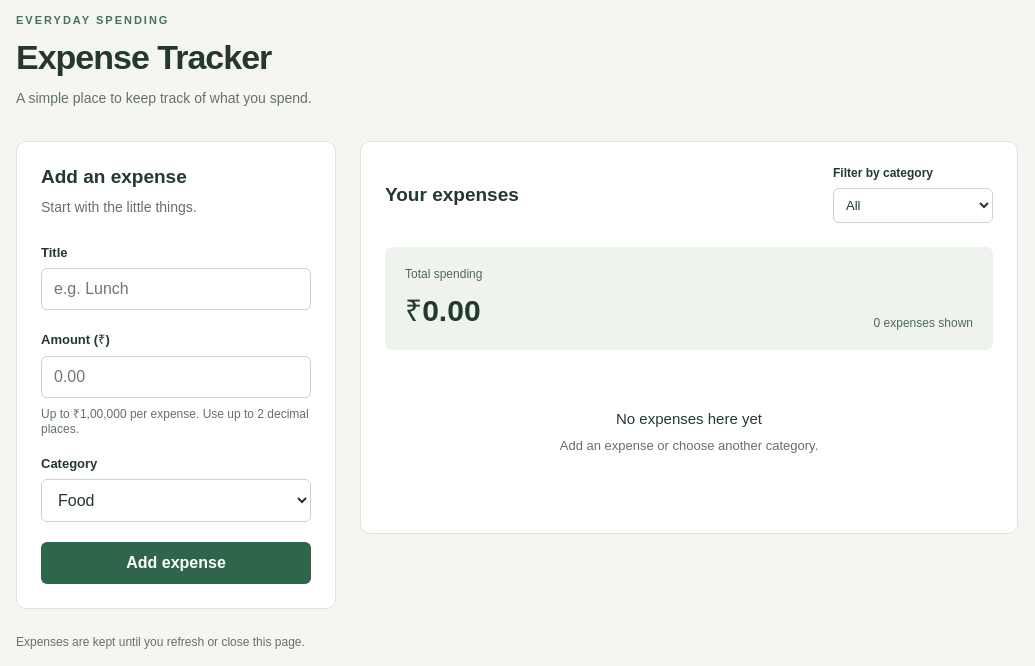
Scenario: expense tracker › adds a valid expense and clears the form
Type "  Lunch  " into the field labelled "Title". click: {"x": 176, "y": 289}
box: [41,268,311,310]
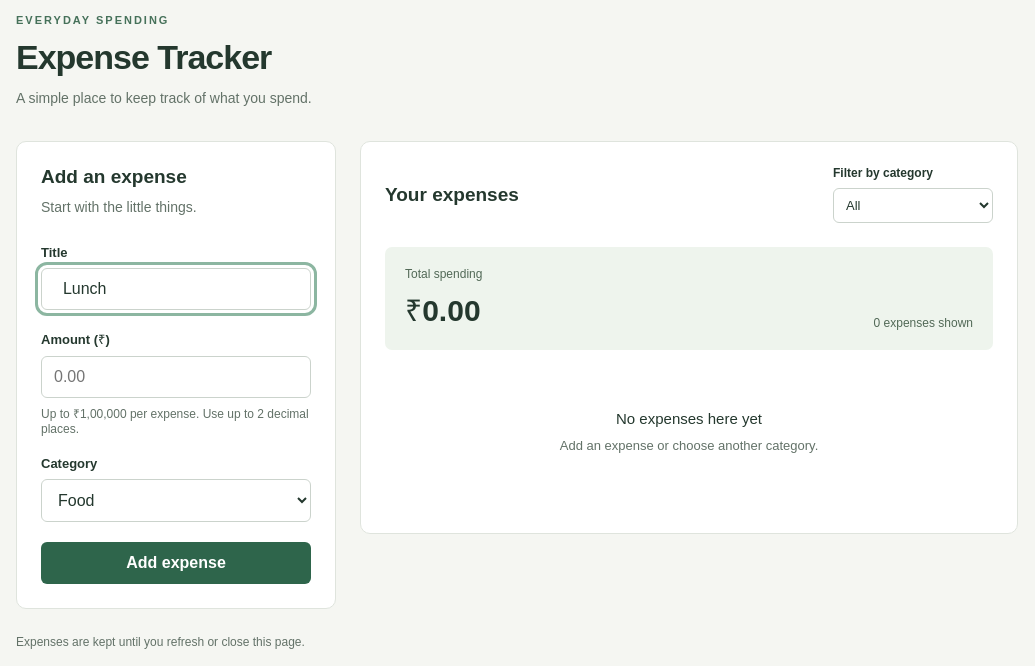
Type "250.50" into the field labelled "Amount (₹)". click: {"x": 176, "y": 377}
box: [41,356,311,398]
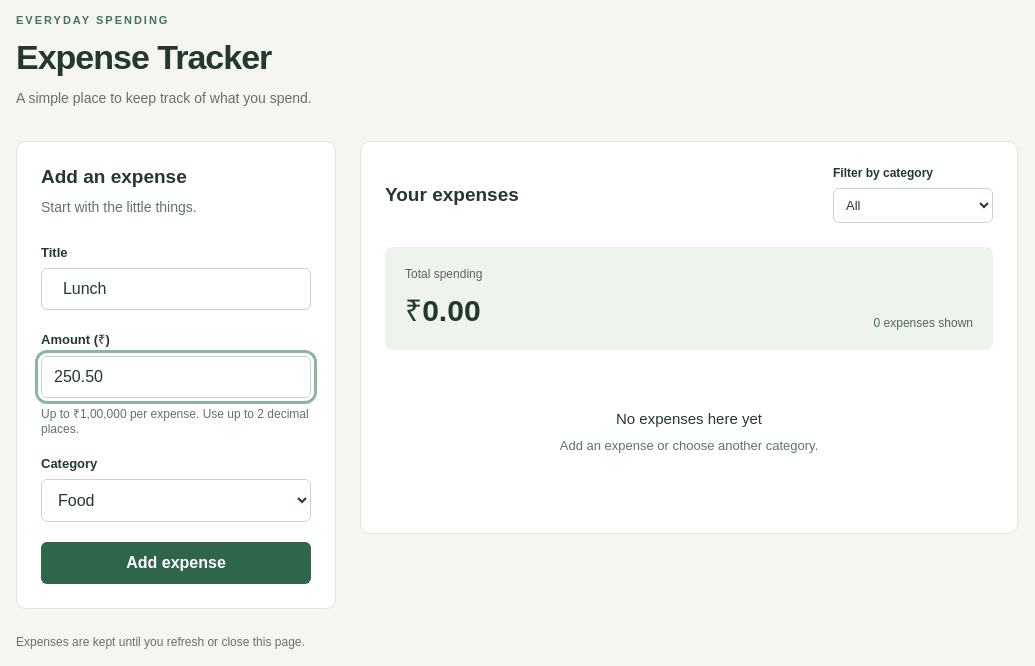
Select "Food" in the dropdown labelled "Category". click: {"x": 176, "y": 500}
box: [41,479,311,522]
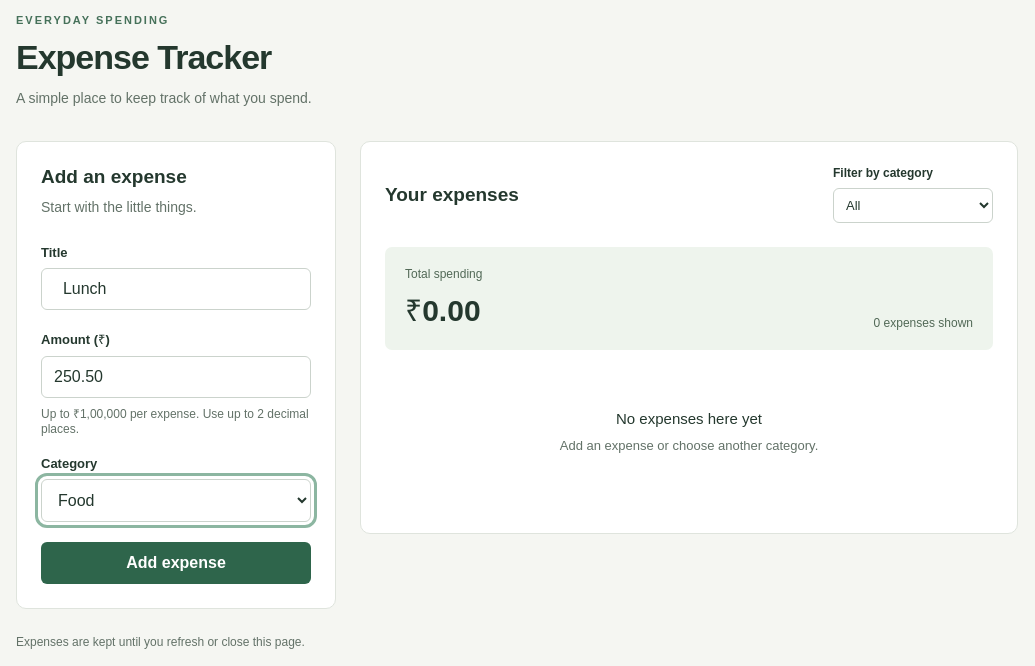
Click the button "Add expense". click: {"x": 176, "y": 563}
box: [41,542,311,584]
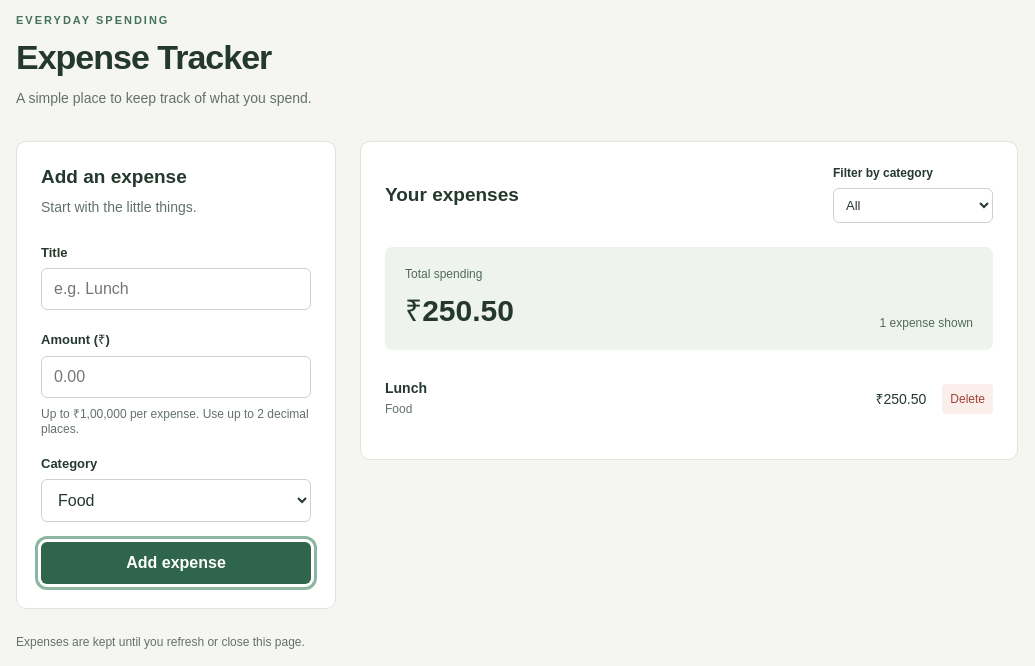
Result: the list item shows "Lunch" at [385,380,427,396]
Result: the list item shows "₹250.50" at [385,380,993,416]
Result: the text "1 expense shown" is shown at [880,316,973,330]
